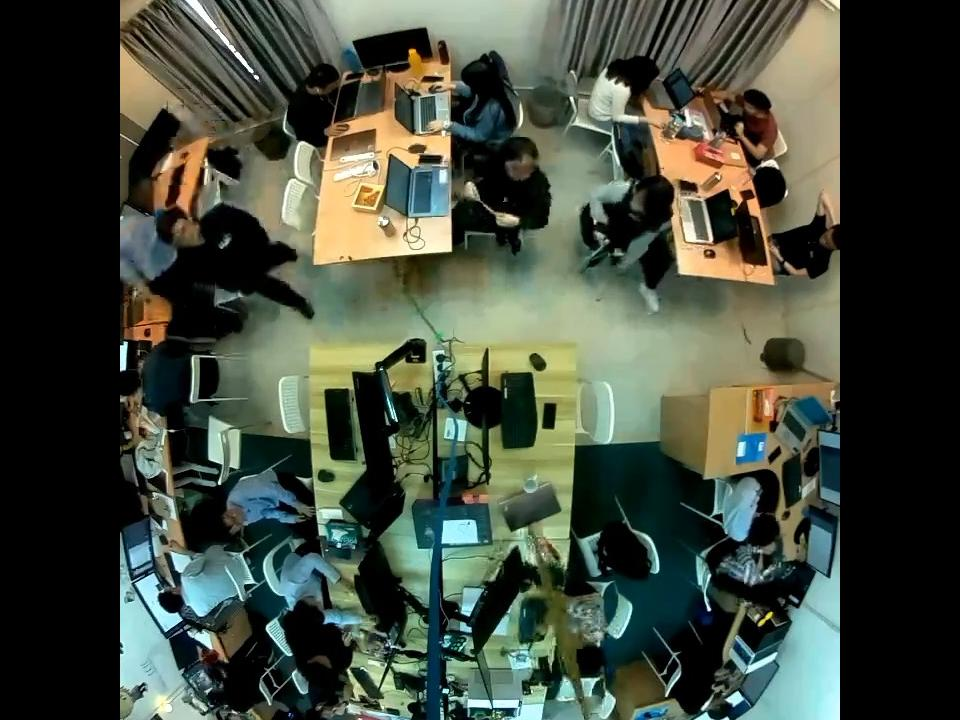name-tag: (214, 230, 234, 253)
